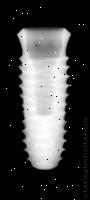Cowellmedi: (12, 26, 71, 172)
